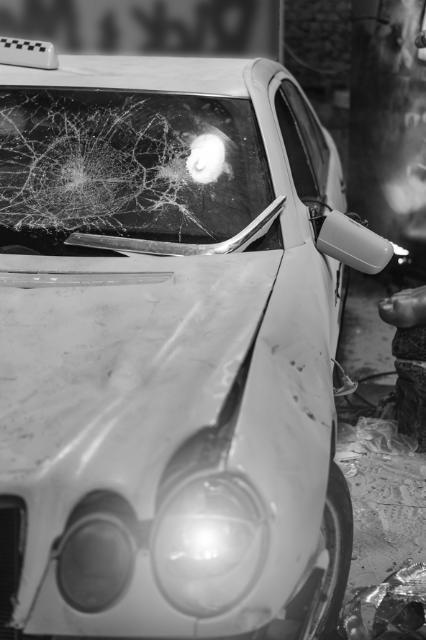Fender: (252, 329, 340, 466)
Light: (2, 90, 271, 240)
